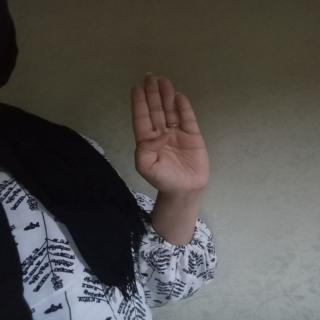KAAF: (124, 59, 217, 206)
